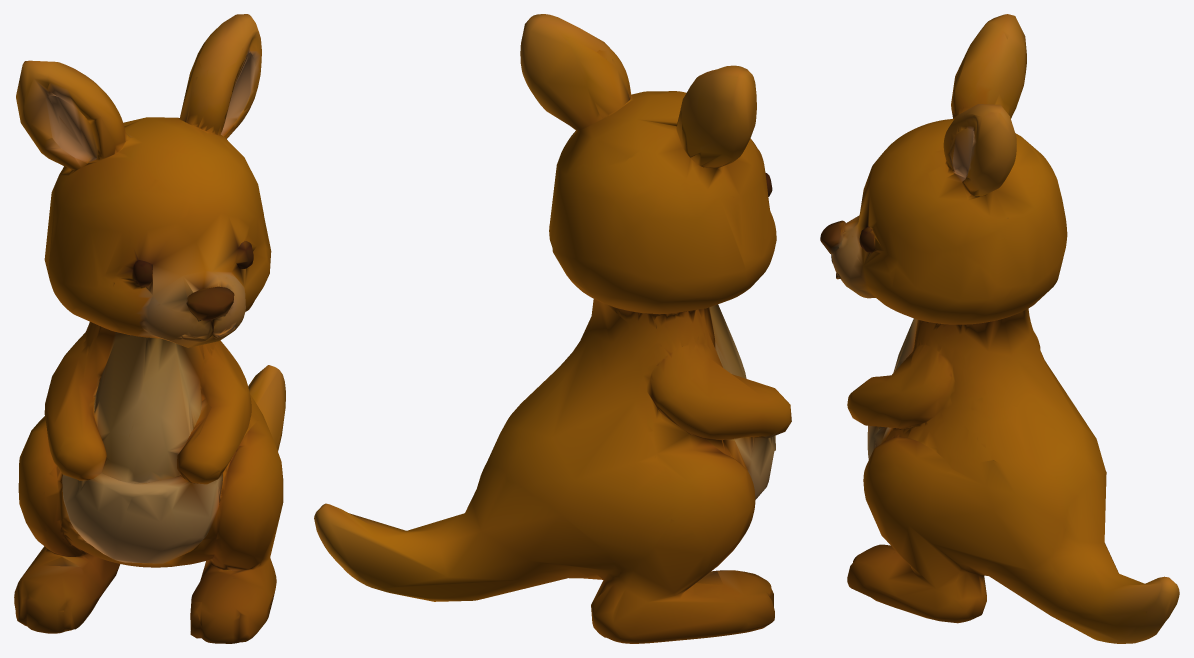
Rendered from wikalino-kangaroo-explorer.glb.
3 renders of one model, left to right at view 1: azimuth 30°, elevation 25°; view 2: azimuth 150°, elevation 25°; view 3: azimuth 270°, elevation 25°, orthographic. The views are drawn at different scales.
Parts seen in each view (by area): view 1: texture_pbr_v128; view 2: texture_pbr_v128; view 3: texture_pbr_v128.
Part boxes in pixels (x1,y1,x2,y2): texture_pbr_v128: (14,14,285,643); texture_pbr_v128: (314,14,791,643); texture_pbr_v128: (820,14,1179,643).
Bounding box in the file's own units: 0.681 × 1.01 × 0.6351.
